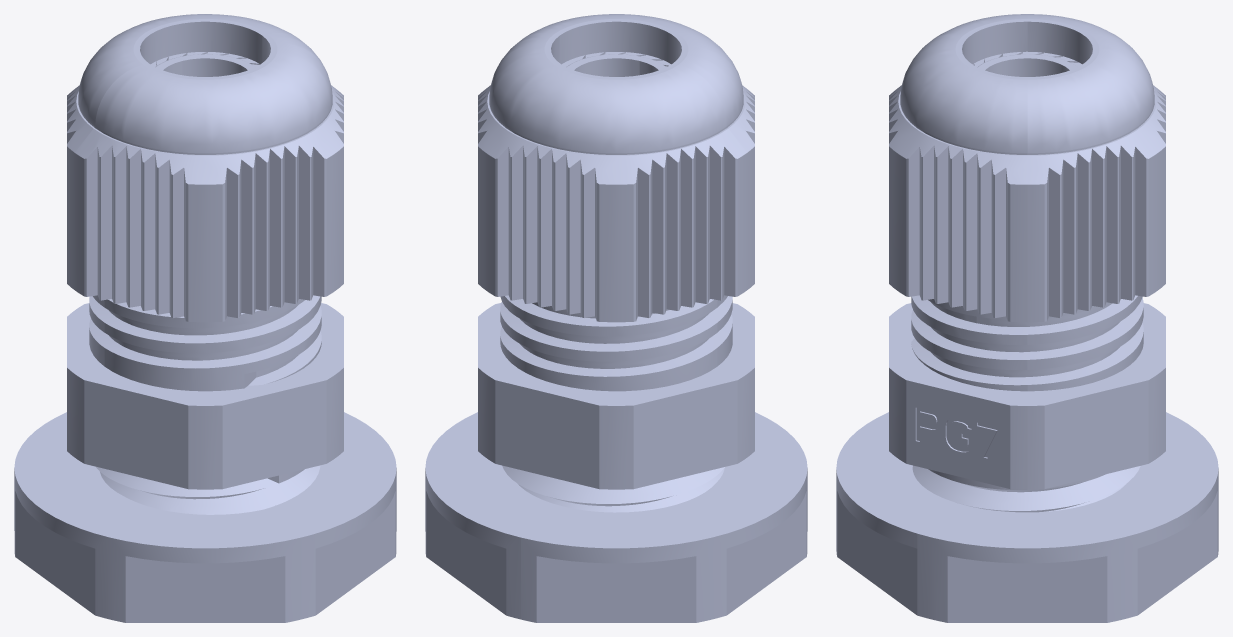
The model's file is PG7 CABLE GLAND.glb.
The picture shows the model from 3 angles, left to right: view 1: azimuth 30°, elevation 25°; view 2: azimuth 150°, elevation 25°; view 3: azimuth 270°, elevation 25°; orthographic projection.
Visible parts, largest first — view 1: empty_2; view 2: empty_2; view 3: empty_2.
Boxes of the visible parts, box(x1,y1,x2,y2) form: empty_2: box(14, 14, 396, 622); empty_2: box(425, 14, 807, 622); empty_2: box(836, 14, 1218, 622).
Size of the model in its own units: 20.68 by 30.5 by 20.7.
